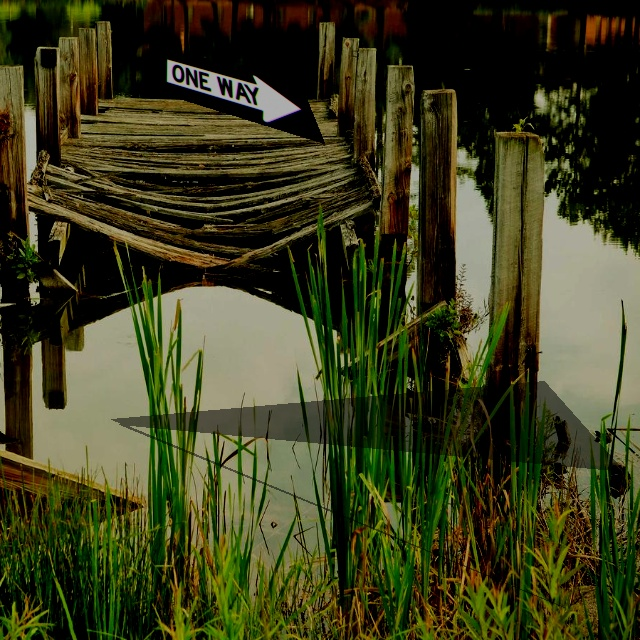ONE_WAY_ right: (157, 47, 325, 144)
